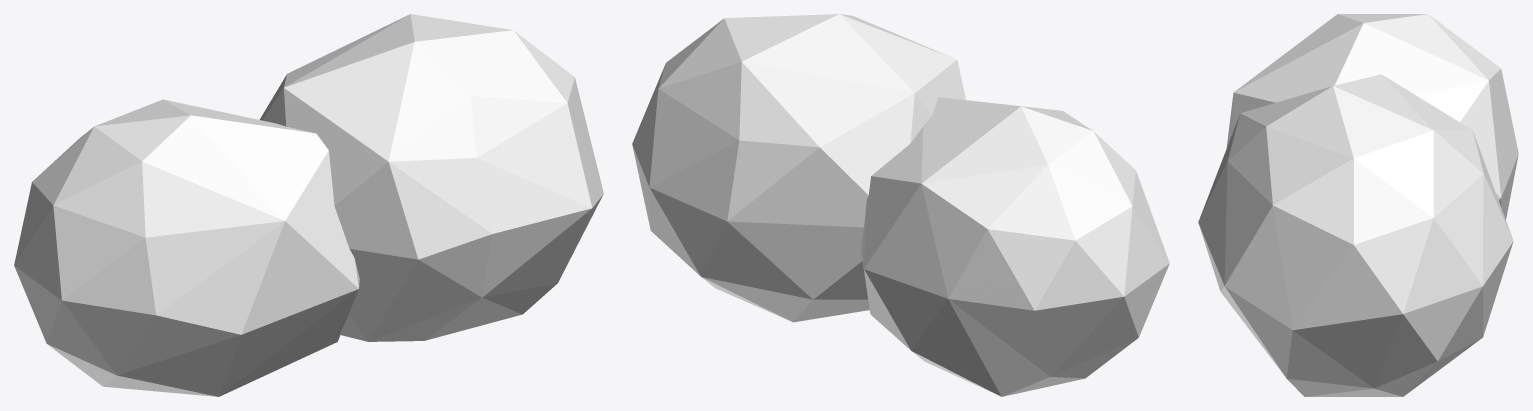
File: Cloud2_tex.fbx
3 renders of one model, left to right at view 1: azimuth 30°, elevation 25°; view 2: azimuth 150°, elevation 25°; view 3: azimuth 270°, elevation 25°, orthographic. The views are drawn at different scales.
Parts seen in each view (by area): view 1: Cloud2_tex; view 2: Cloud2_tex; view 3: Cloud2_tex.
Boxes of the visible parts, x1,y1,x2,y2 form: Cloud2_tex: (14,14,603,396); Cloud2_tex: (632,14,1169,396); Cloud2_tex: (1198,14,1518,396).
Bounding box in the file's own units: 3.3 × 1.87 × 1.83.
